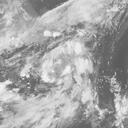cyclone: (38, 38, 94, 89)
